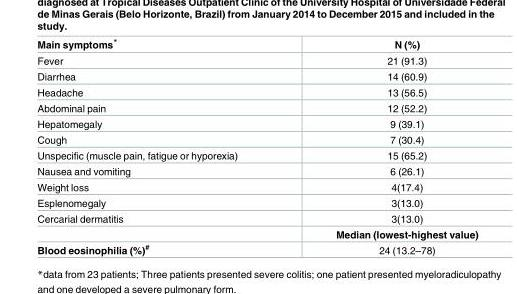table: (36, 36, 477, 255)
table column: (36, 36, 286, 255), (286, 36, 477, 255)
table column header: (36, 36, 477, 52)
table row: (36, 36, 477, 52), (36, 52, 477, 68), (36, 68, 477, 84), (36, 84, 477, 100), (36, 100, 477, 116), (36, 116, 477, 132), (36, 147, 477, 163), (36, 163, 477, 179), (36, 179, 477, 195), (36, 195, 477, 211), (36, 132, 477, 147), (36, 211, 477, 226), (36, 226, 477, 241), (36, 241, 477, 255)
table spanning cell: (36, 211, 286, 241)
